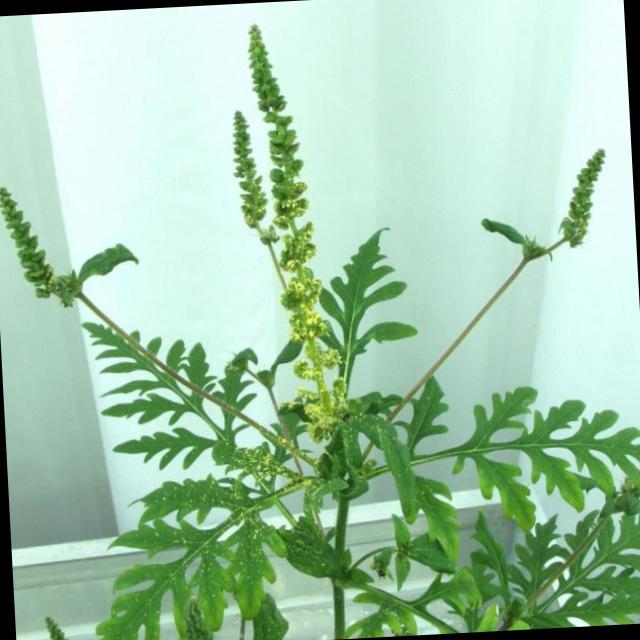ambrosia: (222, 14, 365, 444), (344, 337, 640, 525), (104, 459, 333, 640), (0, 163, 127, 378), (513, 128, 621, 278)
